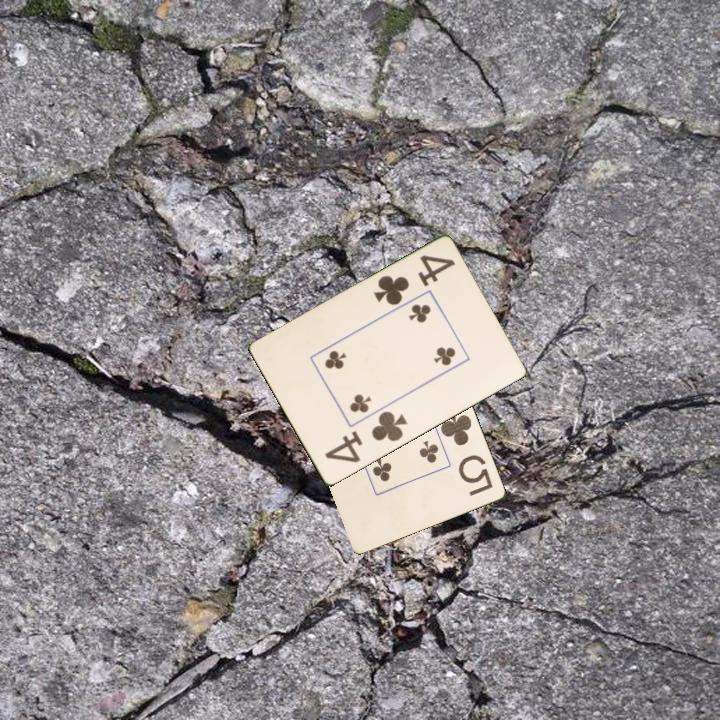4c: (321, 408, 410, 466), (369, 251, 458, 309)
5c: (437, 406, 496, 499)
